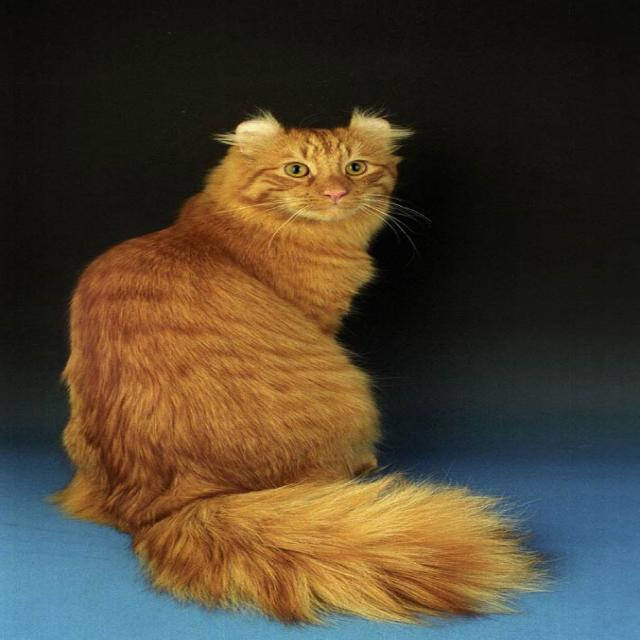American Curl: (48, 104, 555, 626)
